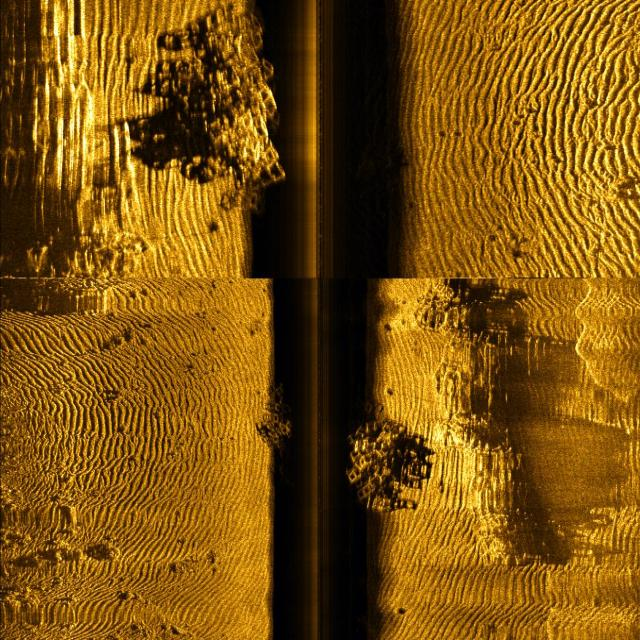artificial reef: (153, 4, 285, 213), (346, 378, 416, 528), (257, 372, 313, 476)
